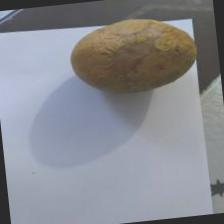Orange Rotten: (62, 0, 210, 104)
